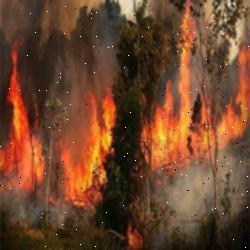fire: (0, 12, 104, 212), (142, 7, 250, 178)
